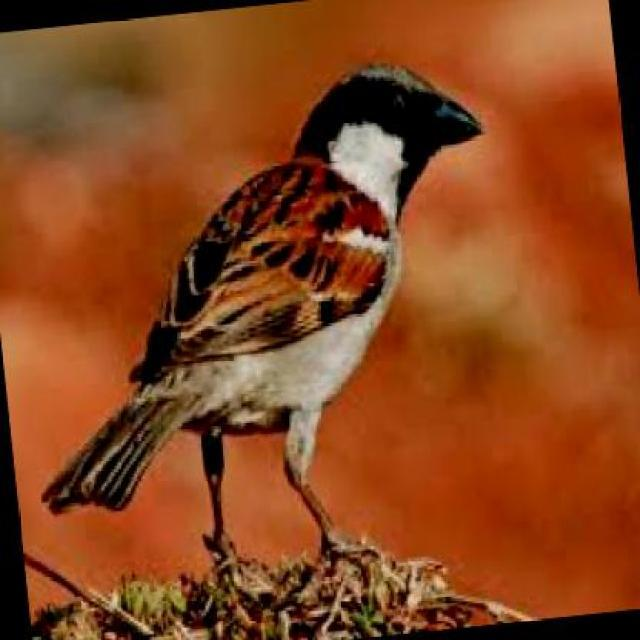Bird: (47, 58, 493, 594)
